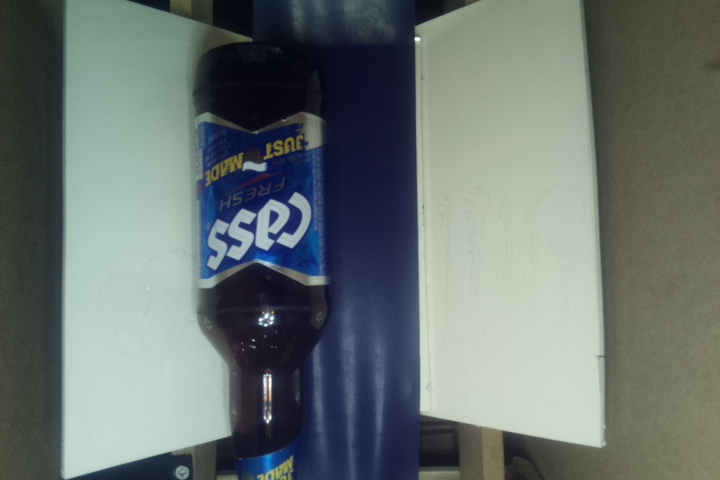makju: (192, 42, 328, 480)
